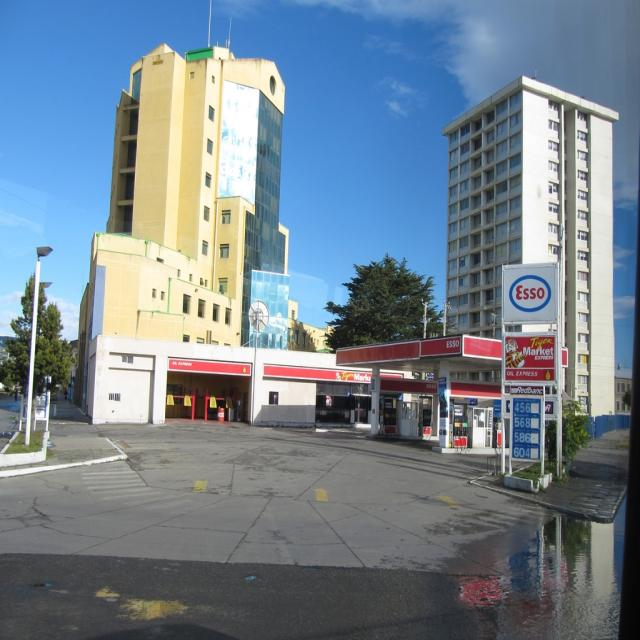esso: (508, 272, 554, 318)
